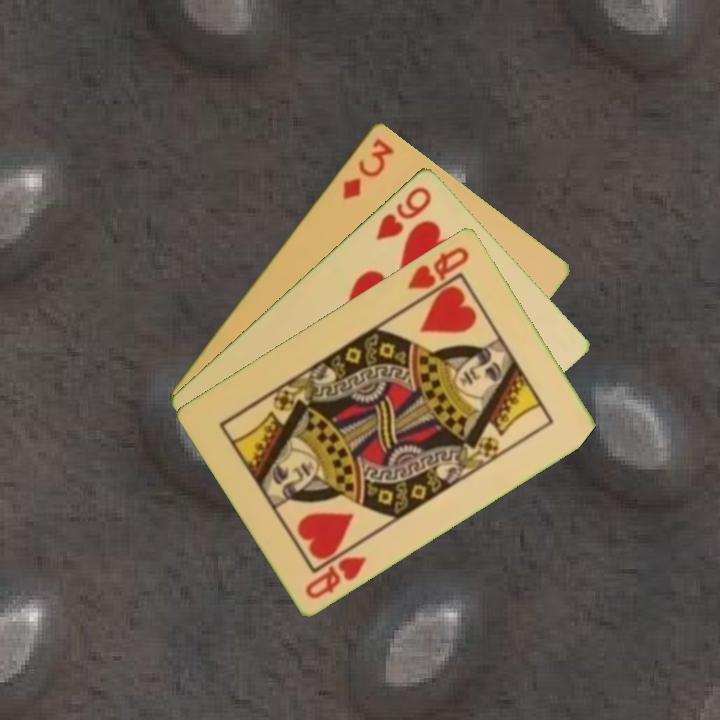3d: (338, 134, 397, 202)
9h: (372, 182, 435, 243)
Qh: (404, 242, 473, 292), (301, 552, 370, 601)
